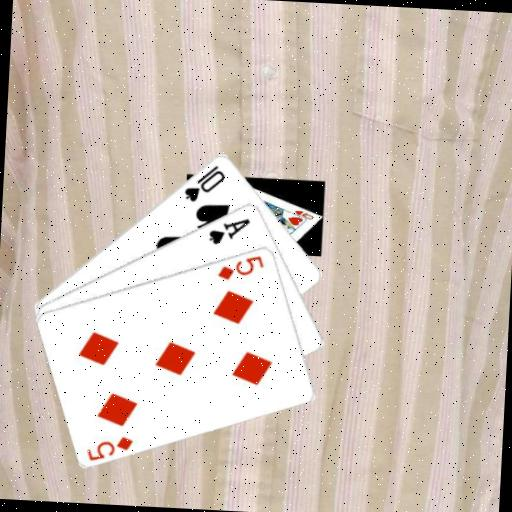10S: (181, 159, 228, 205)
5D: (214, 250, 266, 283), (84, 431, 136, 464)
AS: (205, 213, 252, 247)
